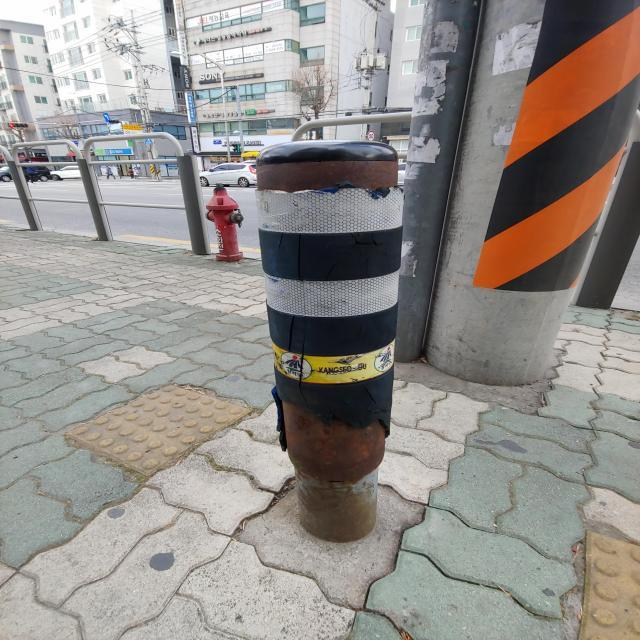pole: (254, 138, 406, 550)
